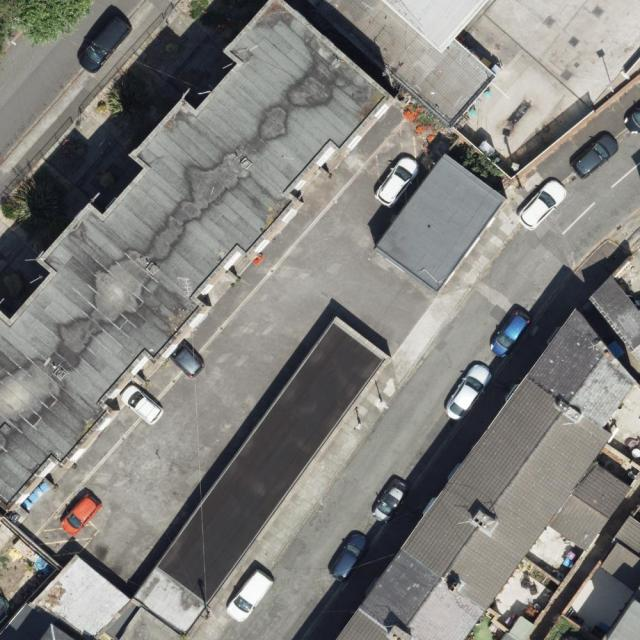roof: (0, 0, 402, 513), (30, 314, 392, 638), (331, 307, 638, 640), (372, 153, 508, 296), (589, 274, 640, 366), (599, 513, 640, 595)
